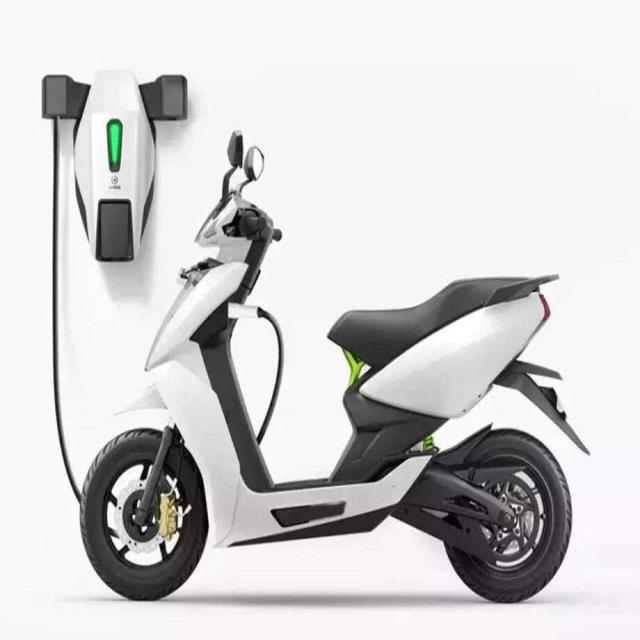motorcycle: (78, 151, 581, 601)
